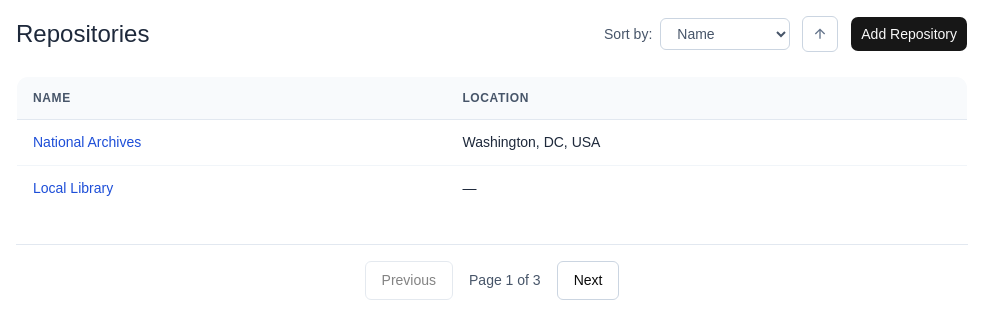
Scenario: Repositories list page › pushes page changes and replaces sort changes (#946)
The width and height of the screenshot is (985, 317).
Expected: the text "Page 1 of 3" is shown, [469,270,541,291]
Click the button "Next": (588, 280) [557,261,619,300]
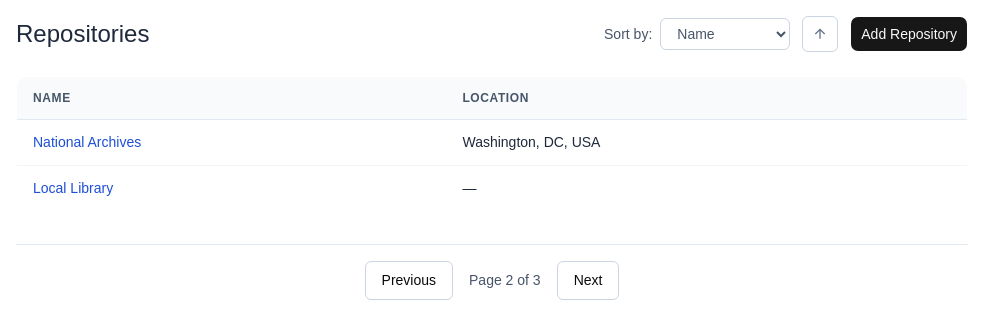
Select "Last Updated" in the dropdown labelled "Sort by:": (725, 34) [660,18,790,50]
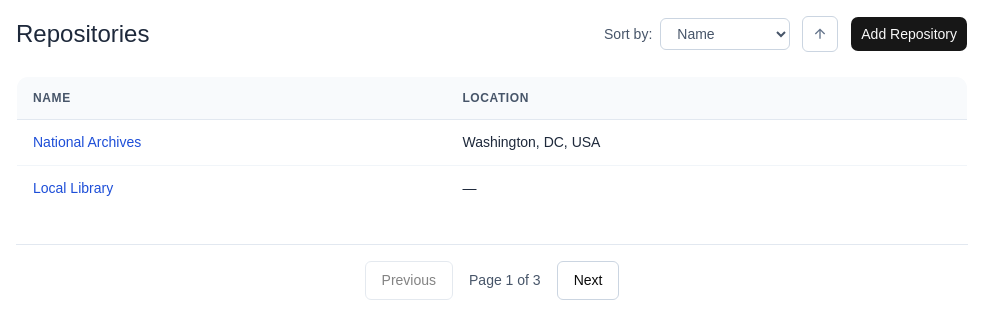
Now the text "Page 1 of 3" is shown, box [469,270,541,291]
